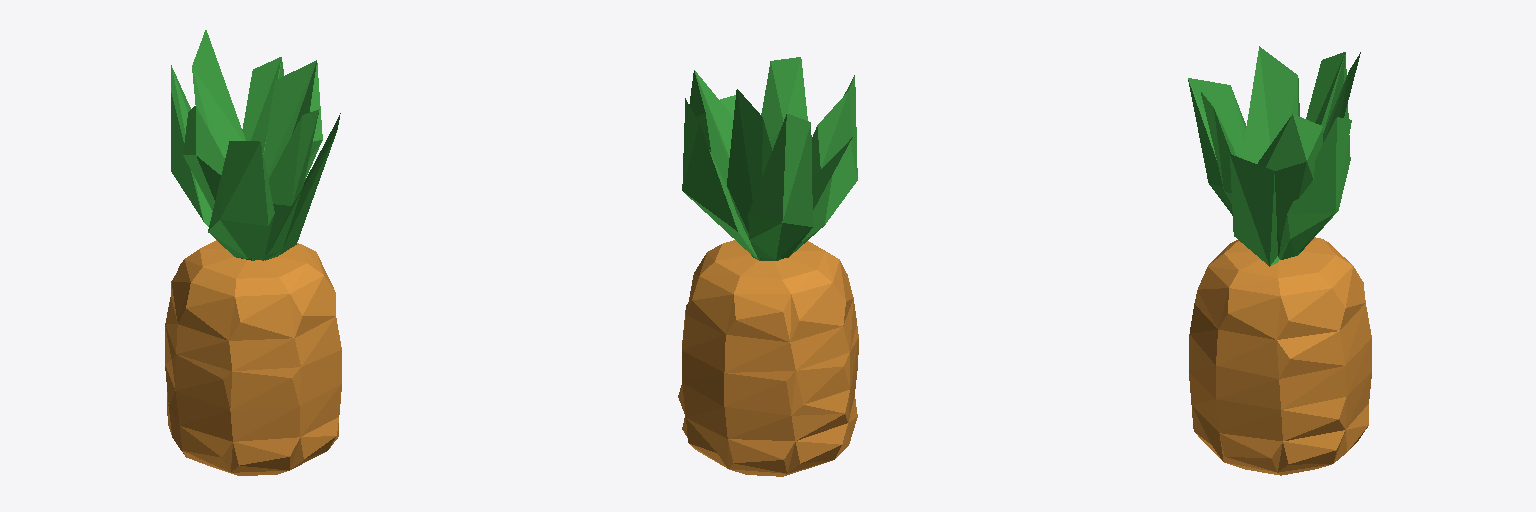
Rendered from NewPineapple.obj.
The picture shows the model from 3 angles: view 1: azimuth 30°, elevation 25°; view 2: azimuth 150°, elevation 25°; view 3: azimuth 270°, elevation 25°; orthographic projection.
Parts seen in each view (by area): view 1: pineapple_Circle.004; view 2: pineapple_Circle.004; view 3: pineapple_Circle.004.
Part boxes in pixels (x1,y1,x2,y2): pineapple_Circle.004: (165,30,341,475); pineapple_Circle.004: (678,57,858,476); pineapple_Circle.004: (1188,46,1371,475).
Size of the model in its own units: 6.1 by 14.19 by 5.93.